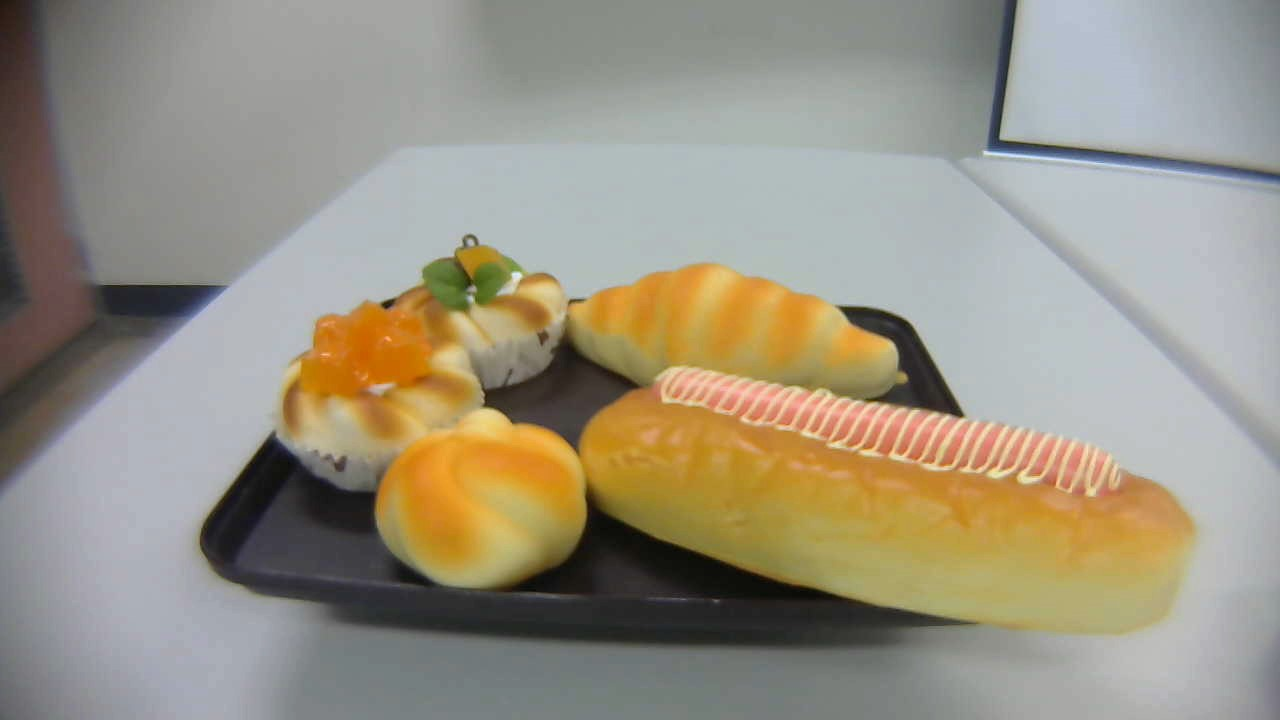croissant: (566, 261, 908, 398)
fruit tart: (393, 234, 569, 391)
hot dog: (578, 365, 1197, 634)
mango tart: (268, 300, 485, 490)
twist bread: (376, 408, 589, 589)
